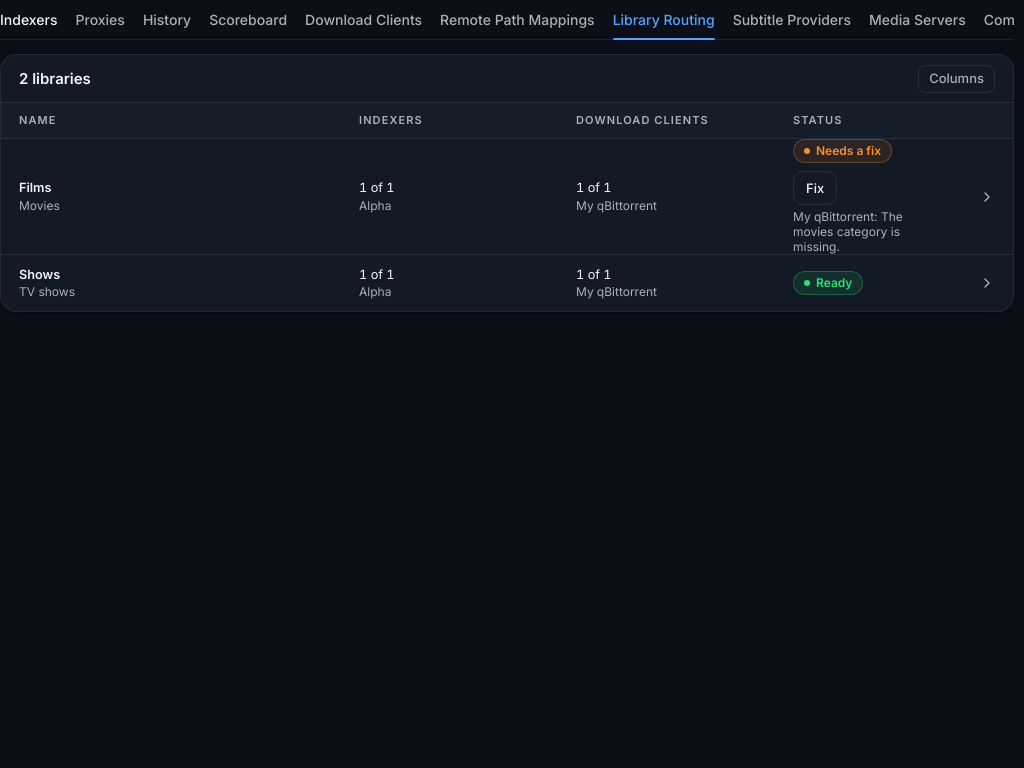
Scenario: the routing list and the loading and failing sources, low rows (#1329) › a library row names the library with Movies or TV shows under it, and a row that Needs a fix has a Fix button that opens its routing once
Expected: the row that starts with "Films" shows "Movies", [19,198,60,213]
Expected: the row "Shows TV shows 1 of 1 Alpha 1 of 1 My qBittorrent Ready" is shown, [19,267,995,300]
What coordinates should you click on to do the following:
click the button with aria-label "Fix Films routing"
I would click on:
 (815, 188)
Its box is [793,171,837,205].
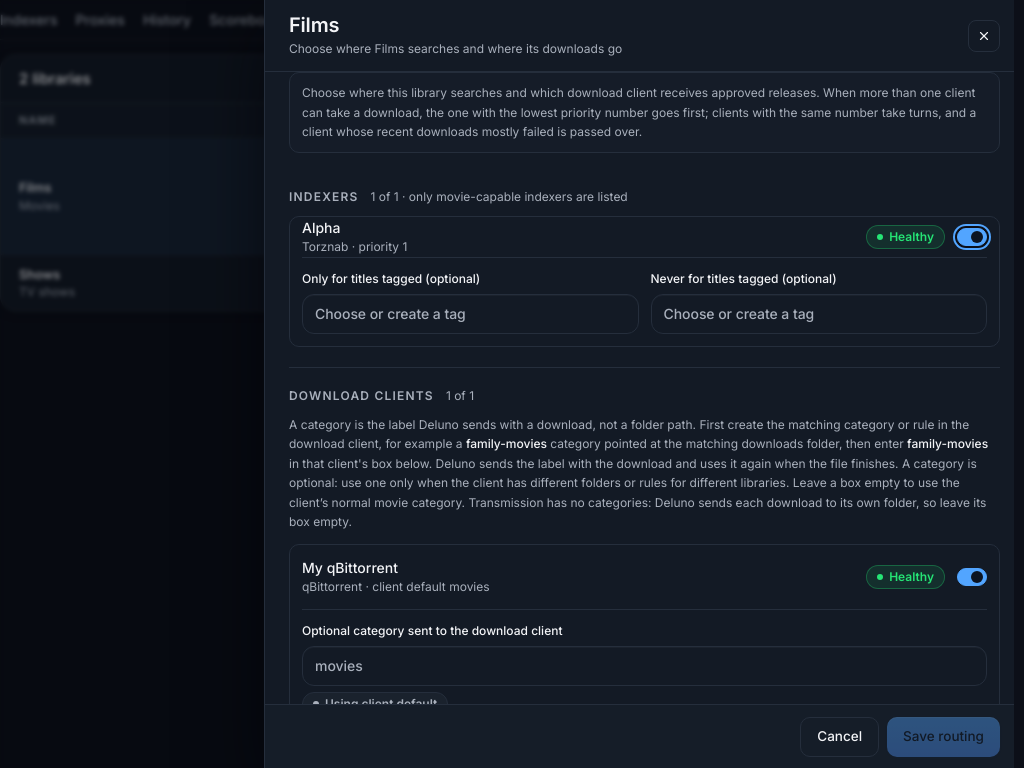
Result: the number of dialogs is 1
